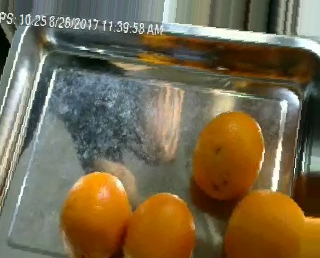Orange: (192, 110, 265, 198), (60, 171, 132, 256), (223, 189, 304, 258), (124, 191, 197, 258)
